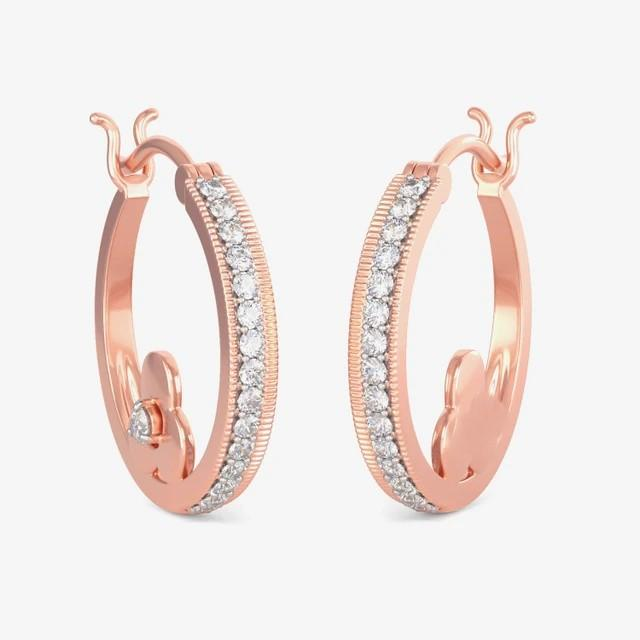missing gem: (461, 401, 492, 442)
